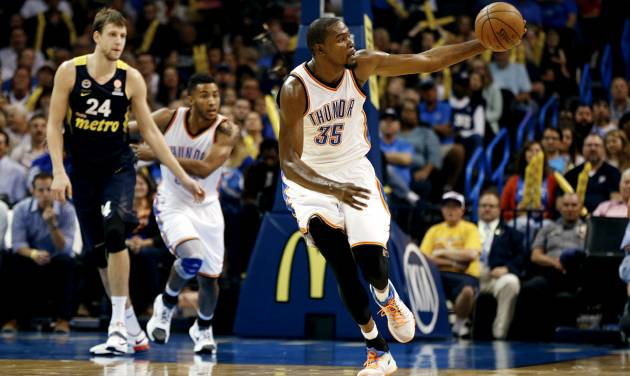basketball: (474, 3, 523, 52)
basketball player: (264, 17, 432, 376), (42, 2, 163, 366), (145, 75, 243, 358)
